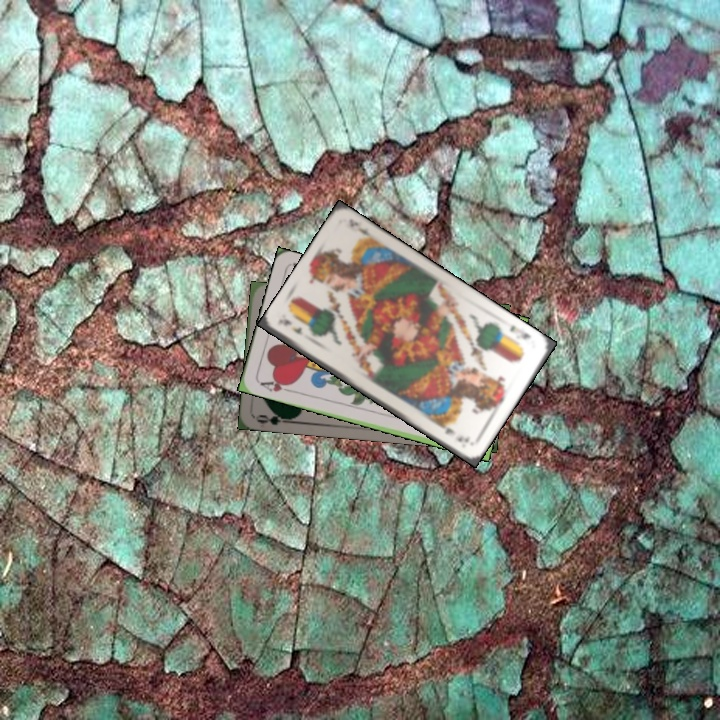EK: (279, 315, 306, 337), (505, 321, 533, 342)
GO: (253, 407, 294, 428)
HA: (256, 375, 295, 395)
